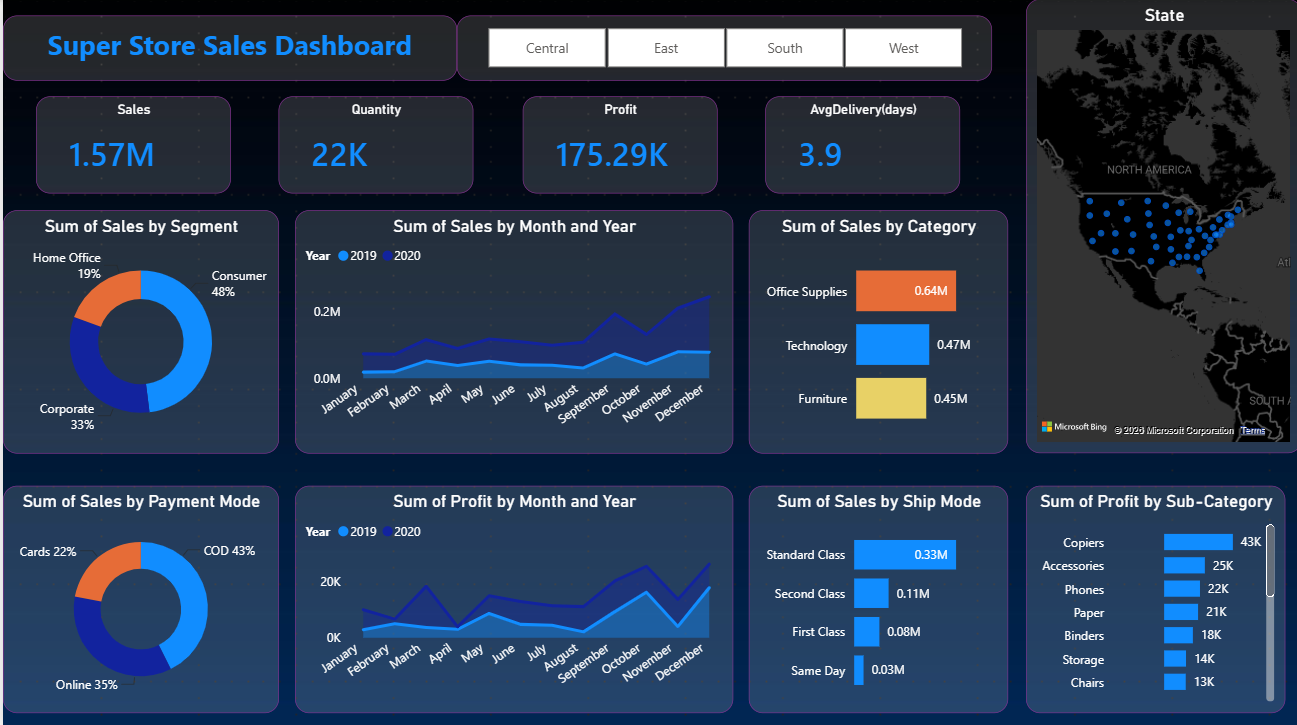

Layout of this report page (visuals, bound fields, positions):
{"tool":"powerbi","page":{"name":"Page 1","canvas":[1280,720],"ordinal":0},"visuals":[{"type":"clusteredBarChart","fields":{"Category":["SuperStore_Sales_Dataset.Category"],"Y":["Sum(SuperStore_Sales_Dataset.Sales)"]},"box":[736,208,256,240],"z":0},{"type":"clusteredBarChart","fields":{"Category":["SuperStore_Sales_Dataset.Sub-Category"],"Y":["Sum(SuperStore_Sales_Dataset.Profit)"]},"box":[1008,480,256,224],"z":1000},{"type":"clusteredBarChart","fields":{"Category":["SuperStore_Sales_Dataset.Ship Mode"],"Y":["Sum(SuperStore_Sales_Dataset.Sales)"]},"box":[736,480,256,224],"z":2000},{"type":"stackedAreaChart","fields":{"Y":["Sum(SuperStore_Sales_Dataset.Sales)"],"Category":["SuperStore_Sales_Dataset.Order Date.Variation.Date Hierarchy.Month","SuperStore_Sales_Dataset.Order Date.Variation.Date Hierarchy.Day"],"Series":["SuperStore_Sales_Dataset.Order Date.Variation.Date Hierarchy.Year"]},"box":[288,208,432,240],"z":3000},{"type":"stackedAreaChart","fields":{"Category":["SuperStore_Sales_Dataset.Order Date.Variation.Date Hierarchy.Month","SuperStore_Sales_Dataset.Order Date.Variation.Date Hierarchy.Day"],"Series":["SuperStore_Sales_Dataset.Order Date.Variation.Date Hierarchy.Year"],"Y":["Sum(SuperStore_Sales_Dataset.Profit)"]},"box":[288,480,432,224],"z":4000},{"type":"map","fields":{"Category":["SuperStore_Sales_Dataset.State"]},"box":[1008,0,272,448],"z":5000},{"type":"donutChart","fields":{"Category":["SuperStore_Sales_Dataset.Segment"],"Y":["Sum(SuperStore_Sales_Dataset.Sales)"]},"box":[0,208,272,240],"z":6000},{"type":"donutChart","fields":{"Category":["SuperStore_Sales_Dataset.Payment Mode"],"Y":["Sum(SuperStore_Sales_Dataset.Sales)"]},"box":[0,480,272,224],"z":7000},{"type":"slicer","fields":{"Values":["SuperStore_Sales_Dataset.Region"]},"box":[448,16,528,64],"z":8000},{"type":"textbox","box":[0,16,448,64],"z":9000},{"type":"cardVisual","title":"Sales","fields":{"Data":["Sum(SuperStore_Sales_Dataset.Sales)"]},"box":[32,96,192,96],"z":10000},{"type":"cardVisual","title":"Quantity","fields":{"Data":["Sum(SuperStore_Sales_Dataset.Quantity)"]},"box":[272,96,192,96],"z":11000},{"type":"cardVisual","title":"Profit","fields":{"Data":["Sum(SuperStore_Sales_Dataset.Profit)"]},"box":[512,96,192,96],"z":12000},{"type":"cardVisual","title":"AvgDelivery","fields":{"Data":["Sum(SuperStore_Sales_Dataset.AverageDelivery)"]},"box":[752,96,192,96],"z":13000}]}

Visuals, with their boxes in screenshot pixels (x1, y1, x2, y2), scaled from the page's 1280x720 canvas onto the 1297x725 screenshot:
clusteredBarChart - SuperStore_Sales_Dataset.Category x Sum(SuperStore_Sales_Dataset.Sales): box(746, 209, 1005, 451)
clusteredBarChart - SuperStore_Sales_Dataset.Sub-Category x Sum(SuperStore_Sales_Dataset.Profit): box(1021, 483, 1281, 709)
clusteredBarChart - SuperStore_Sales_Dataset.Ship Mode x Sum(SuperStore_Sales_Dataset.Sales): box(746, 483, 1005, 709)
stackedAreaChart - Sum(SuperStore_Sales_Dataset.Sales) x SuperStore_Sales_Dataset.Order Date.Variation.Date Hierarchy.Month: box(292, 209, 730, 451)
stackedAreaChart - SuperStore_Sales_Dataset.Order Date.Variation.Date Hierarchy.Month x SuperStore_Sales_Dataset.Order Date.Variation.Date Hierarchy.Day: box(292, 483, 730, 709)
map - SuperStore_Sales_Dataset.State: box(1021, 0, 1296, 451)
donutChart - SuperStore_Sales_Dataset.Segment x Sum(SuperStore_Sales_Dataset.Sales): box(0, 209, 276, 451)
donutChart - SuperStore_Sales_Dataset.Payment Mode x Sum(SuperStore_Sales_Dataset.Sales): box(0, 483, 276, 709)
slicer - SuperStore_Sales_Dataset.Region: box(454, 16, 989, 81)
textbox: box(0, 16, 454, 81)
"Sales" cardVisual: box(32, 97, 227, 193)
"Quantity" cardVisual: box(276, 97, 470, 193)
"Profit" cardVisual: box(519, 97, 713, 193)
"AvgDelivery" cardVisual: box(762, 97, 957, 193)
